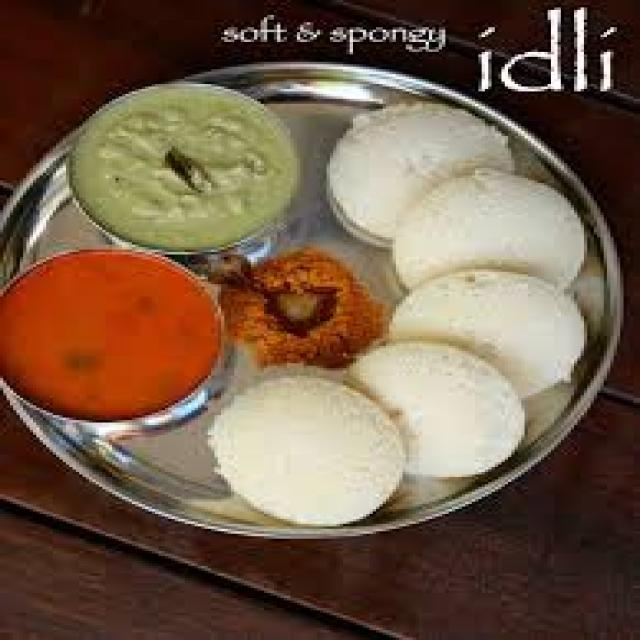IDLI: (208, 371, 396, 524), (333, 101, 511, 245), (389, 269, 584, 395), (350, 341, 525, 477), (393, 168, 584, 287)
